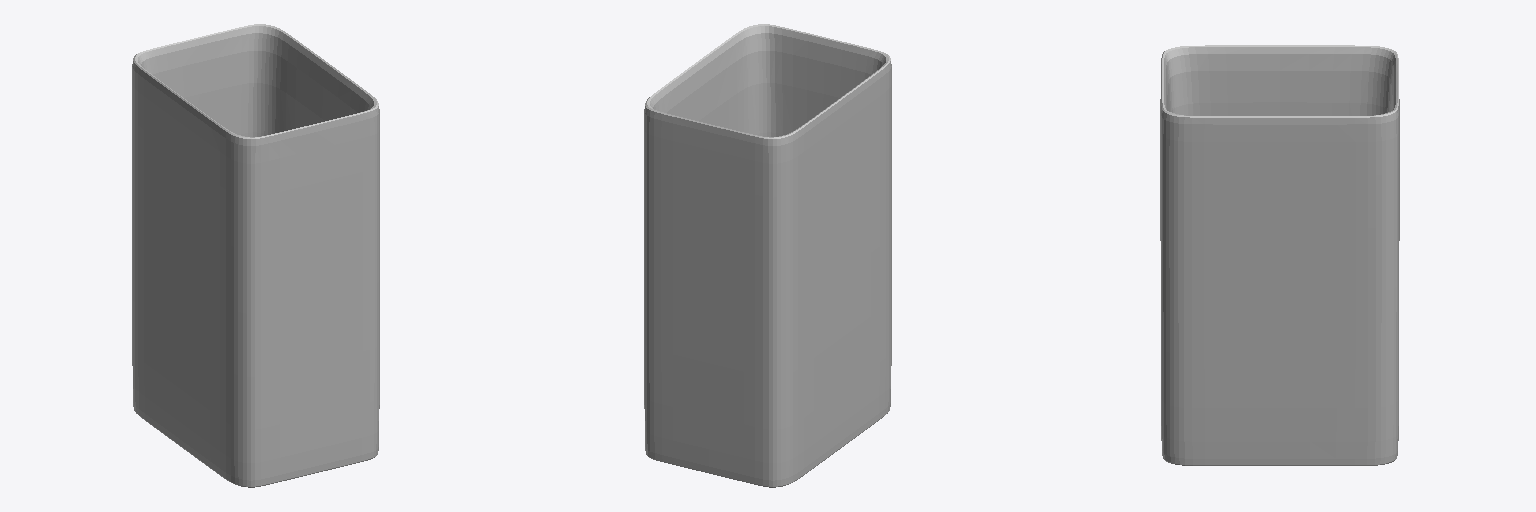
The model's file is tea_tower.obj.
The picture shows the model from 3 angles: view 1: azimuth 30°, elevation 25°; view 2: azimuth 150°, elevation 25°; view 3: azimuth 270°, elevation 25°; orthographic projection.
Parts seen in each view (by area): view 1: Cube; view 2: Cube; view 3: Cube.
Boxes of the visible parts, <box> form: Cube: <box>132,24,379,487</box>; Cube: <box>644,24,891,487</box>; Cube: <box>1160,45,1399,465</box>.
Bounding box in the file's own units: 0.5267 × 1.19 × 0.7342.